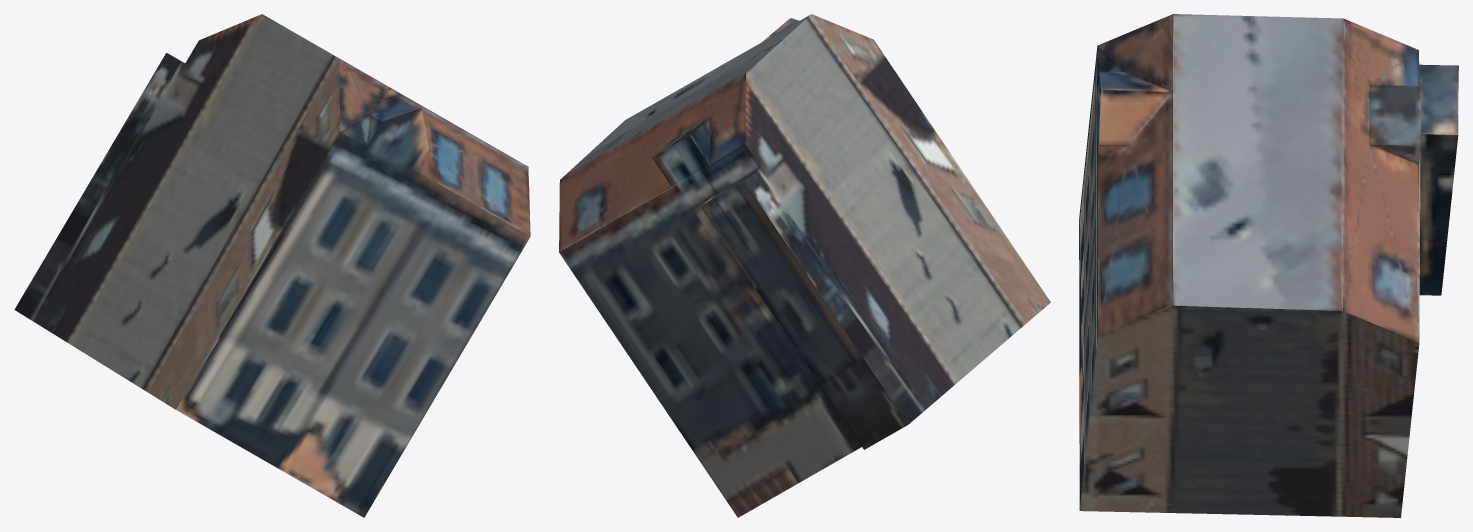
3 views of the same model, side by side, from view 1: azimuth 30°, elevation 25°; view 2: azimuth 150°, elevation 25°; view 3: azimuth 270°, elevation 25° (orthographic). The views are drawn at different scales.
Visible parts, largest first — view 1: BAG_0599100000688727 (×4); view 2: BAG_0599100000688727 (×5); view 3: BAG_0599100000688727 (×6).
Part boxes in pixels (x1,y1,x2,y2): BAG_0599100000688727 (×4): (14,14,530,517); BAG_0599100000688727 (×5): (559,14,1050,517); BAG_0599100000688727 (×6): (1079,14,1458,517).
Bounding box in the file's own units: 15.53 × 16.14 × 10.76.
8 materials, 8 textured.
